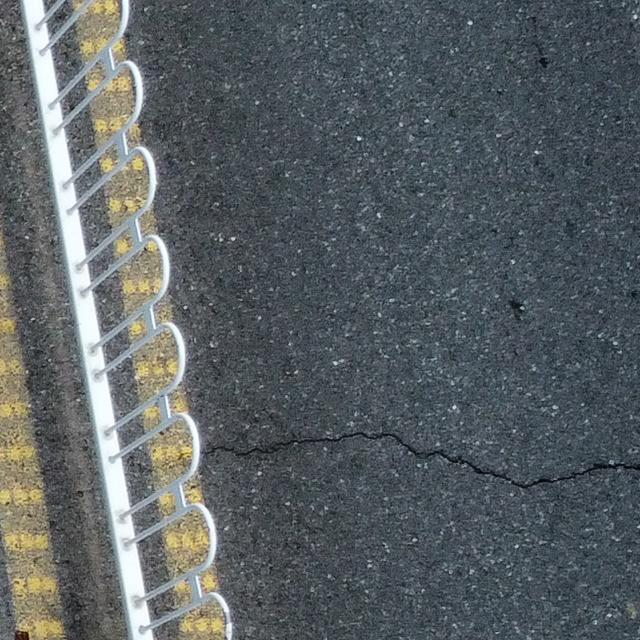TransverseCrack: (200, 430, 640, 489)
